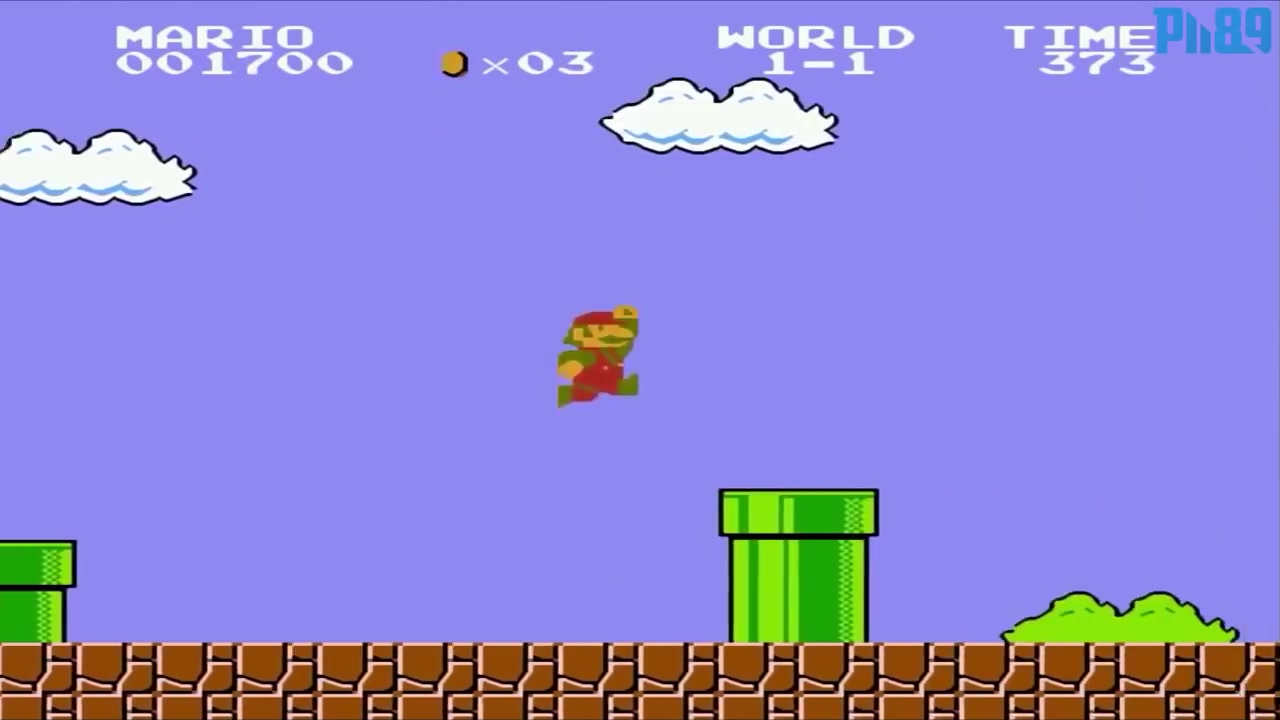mario: (555, 300, 646, 415)
